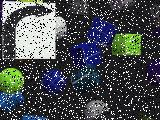Right: (2, 1, 56, 59)
